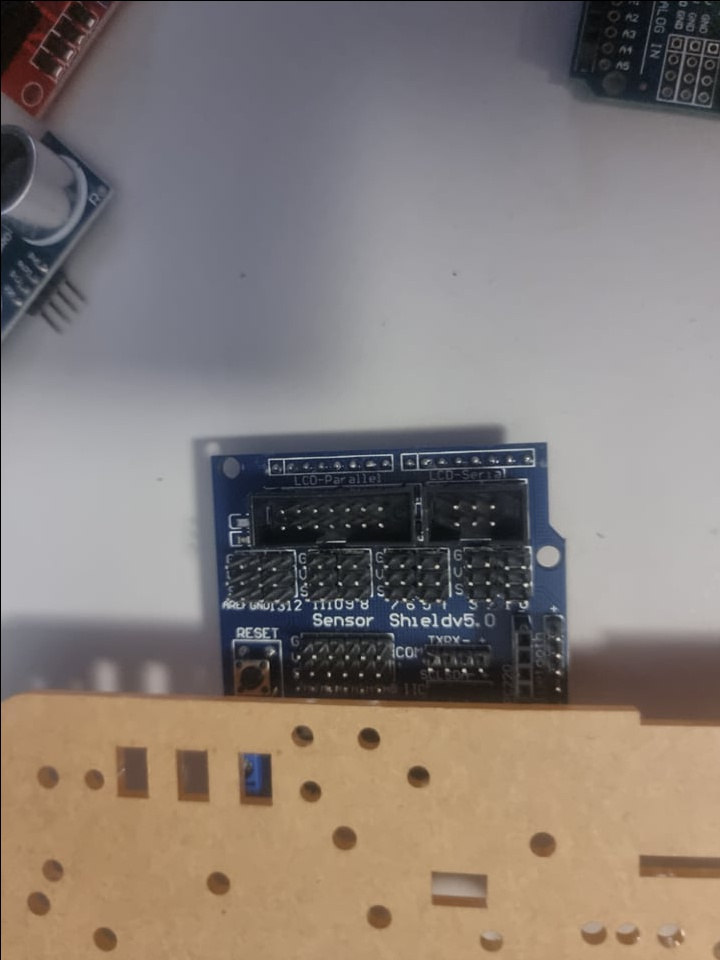5V EXPANSION: (203, 444, 580, 698)
SENSOR: (0, 122, 109, 353)
